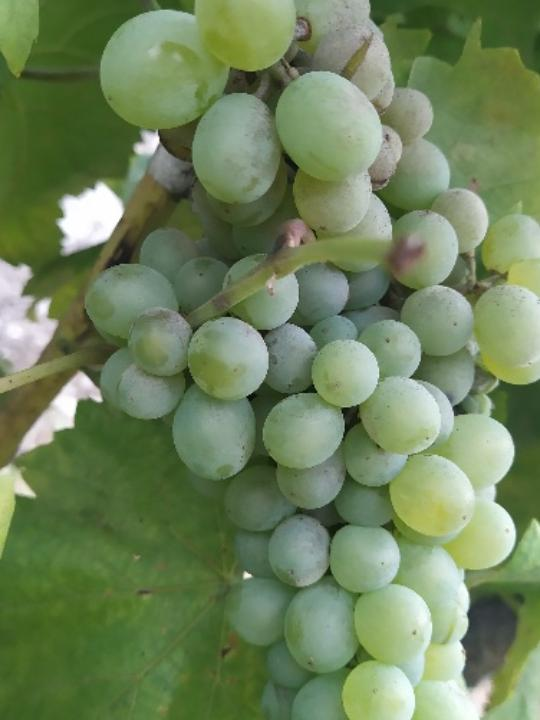grape: (79, 0, 540, 720)
